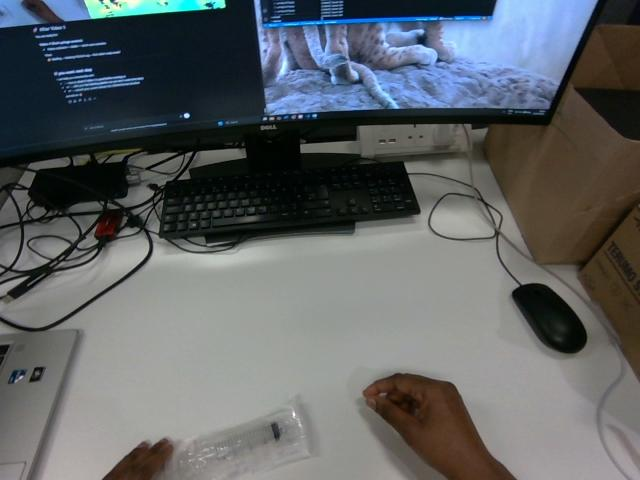syringe: (165, 406, 309, 479)
